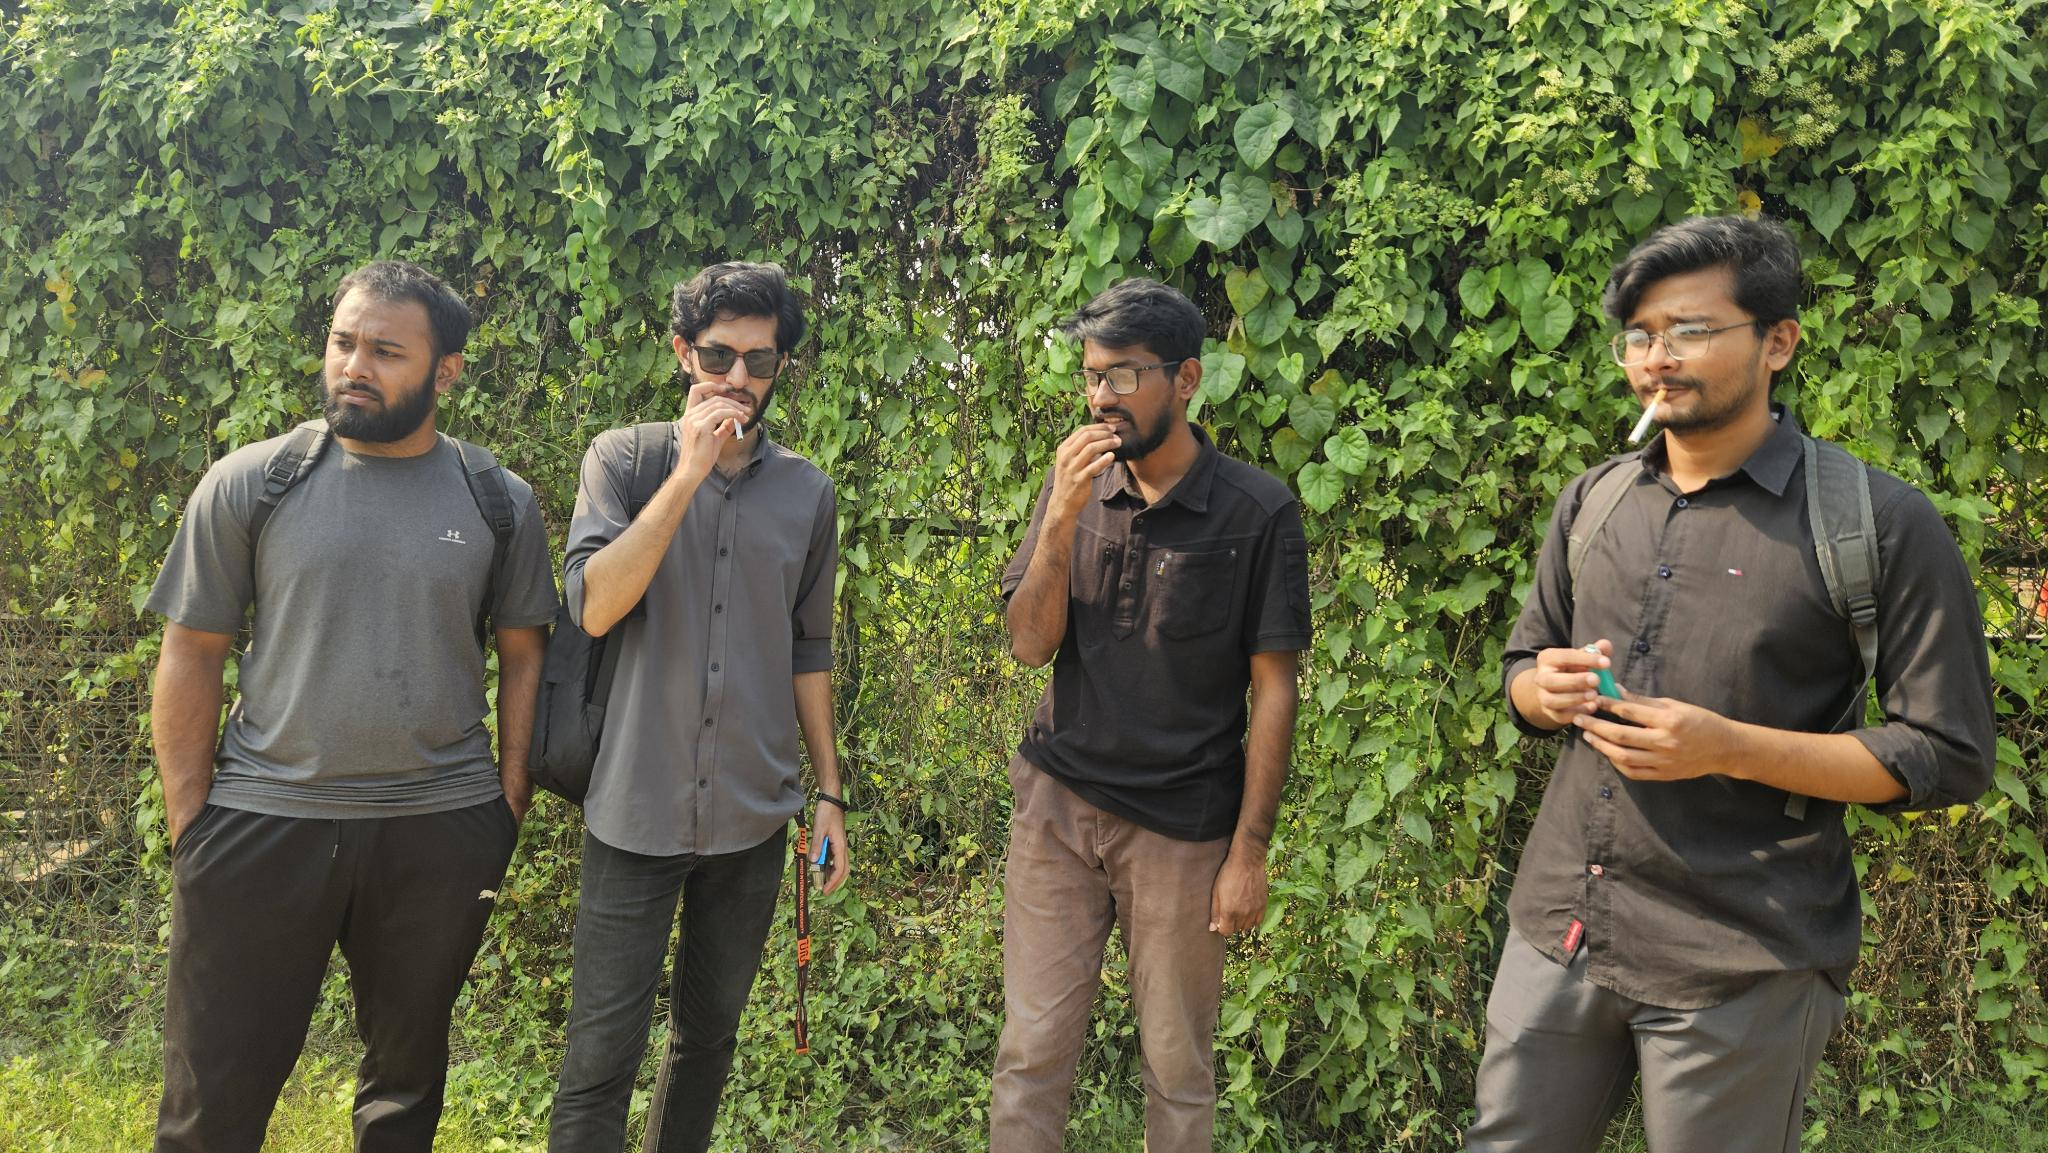cigarette: (1626, 387, 1670, 449), (733, 415, 745, 444)
nonSmoker: (142, 259, 563, 1152), (989, 278, 1317, 1153)
smoker: (1460, 215, 1996, 1153), (525, 260, 850, 1153)
